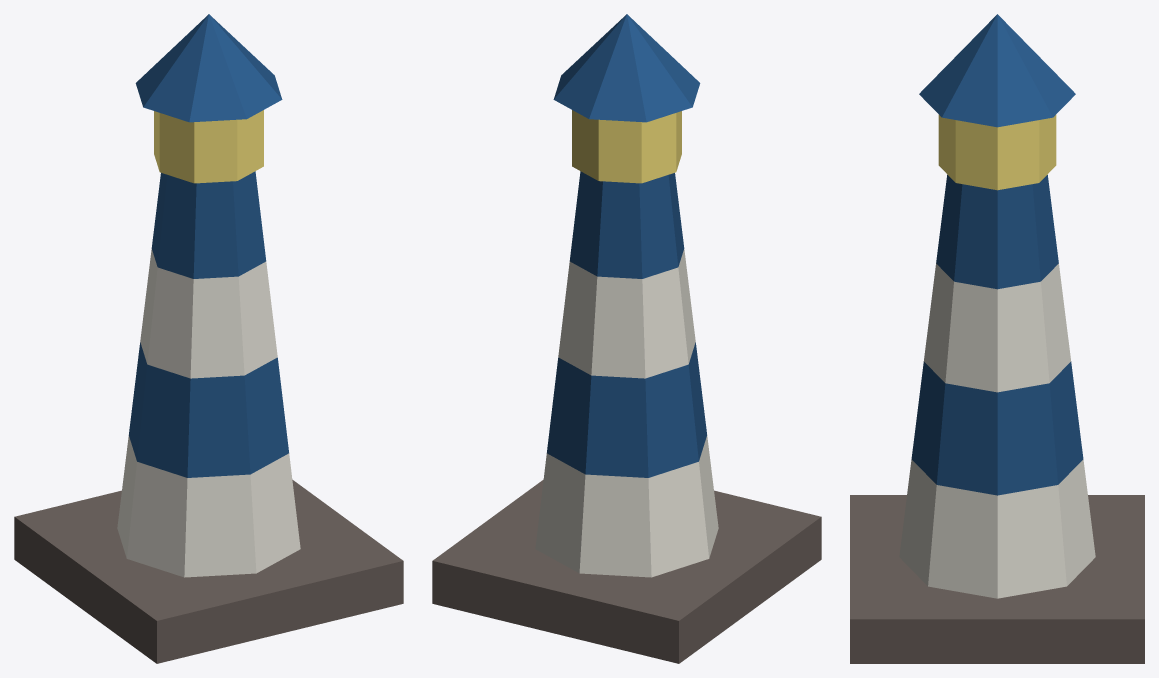
Rendered from faro.obj.
3 views of the same model, side by side, from view 1: azimuth 30°, elevation 25°; view 2: azimuth 150°, elevation 25°; view 3: azimuth 270°, elevation 25° (orthographic). The views are drawn at different scales.
Visible parts, largest first — view 1: faro; view 2: faro; view 3: faro.
Boxes of the visible parts, left/top/right/bottom form: faro: left=14, top=14, right=403, bottom=663; faro: left=432, top=14, right=821, bottom=663; faro: left=850, top=14, right=1144, bottom=663.
Size of the model in its own units: 0.6 by 1.32 by 0.6.
